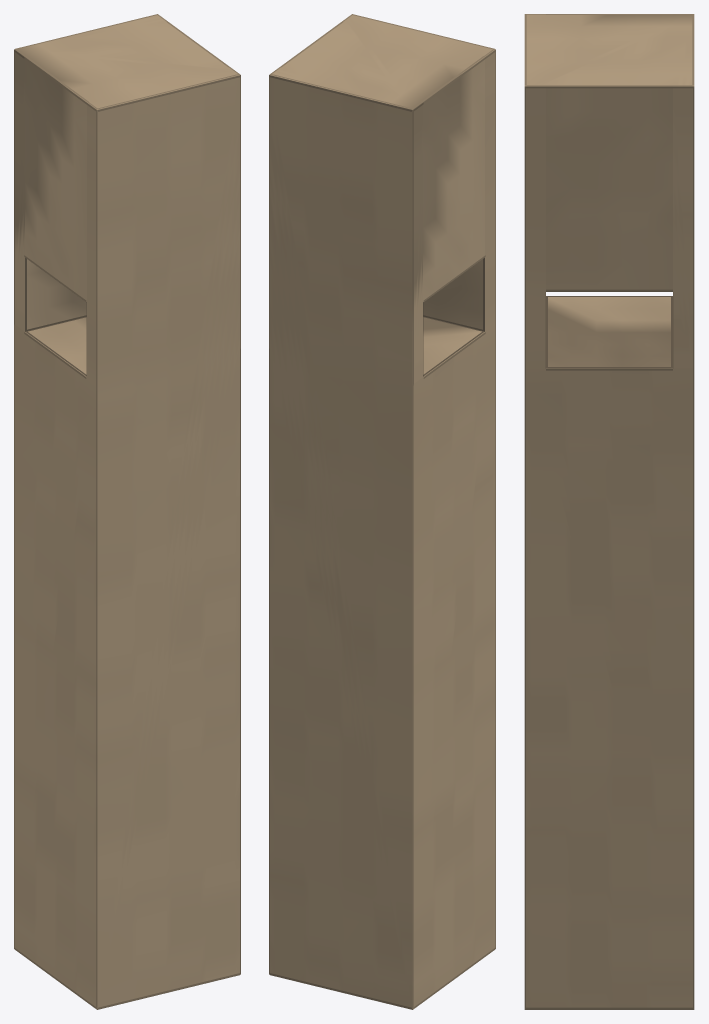
The picture shows the model from 3 angles, left to right: view 1: azimuth 30°, elevation 25°; view 2: azimuth 150°, elevation 25°; view 3: azimuth 270°, elevation 25°; orthographic projection. The views are drawn at different scales.
Visible parts, largest first — view 1: part-a; view 2: part-a; view 3: part-a.
Boxes of the visible parts, x1,y1,x2,y2 form: part-a: (14, 14, 240, 1009); part-a: (269, 14, 495, 1009); part-a: (524, 14, 694, 1009).
Size of the model in its own units: 0.1208 by 0.7208 by 0.1208.
